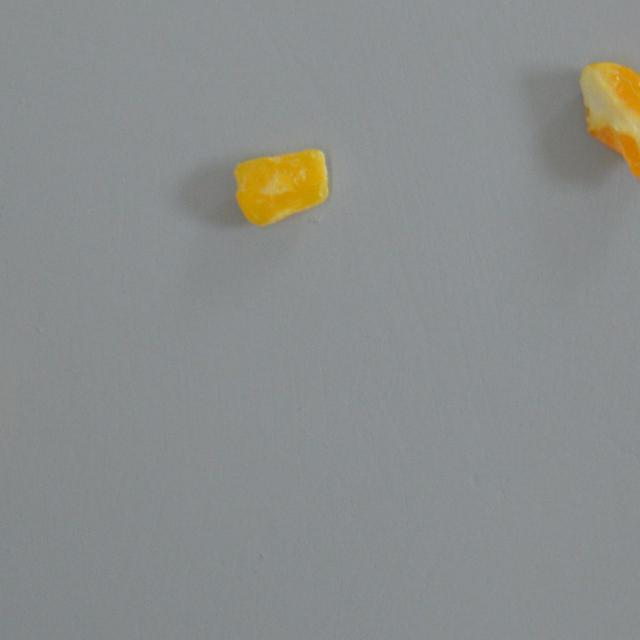pelicula: (574, 38, 640, 198), (230, 144, 334, 228)
